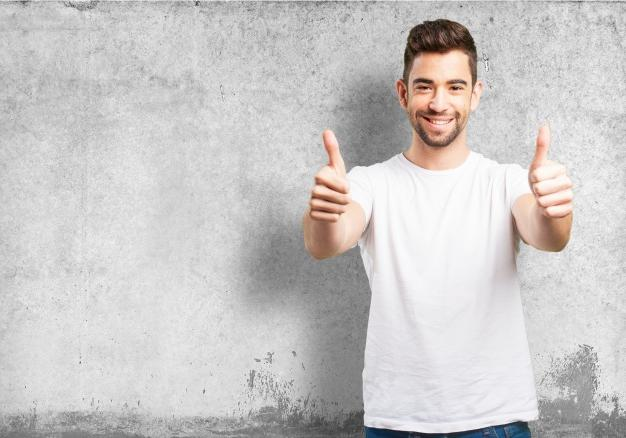thumbsup: (529, 126, 573, 218), (310, 130, 349, 223)
